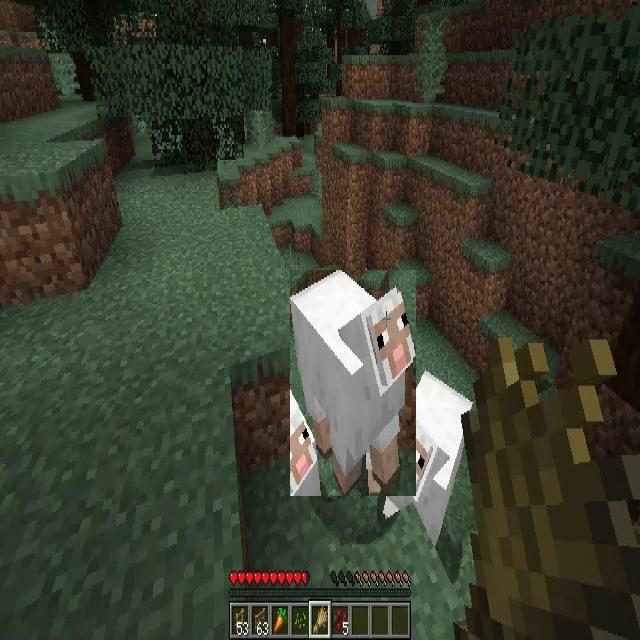sheep: (290, 270, 416, 496), (384, 372, 472, 540)
